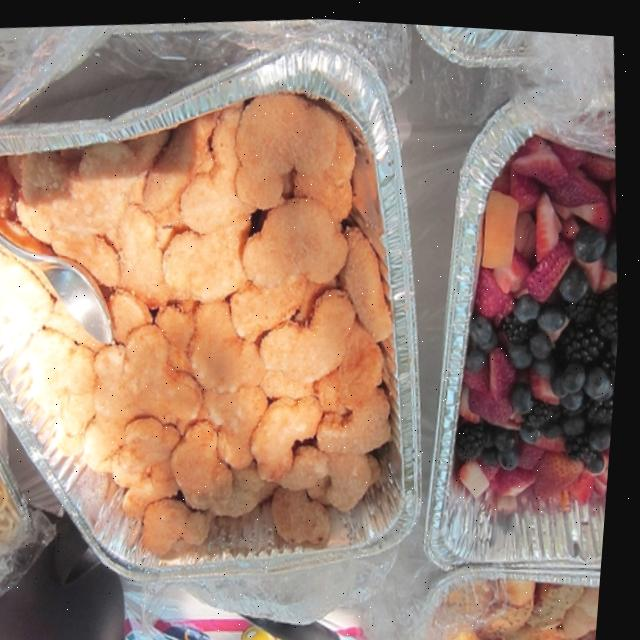鸡肉料理 含炸鸡: (0, 33, 457, 611)
